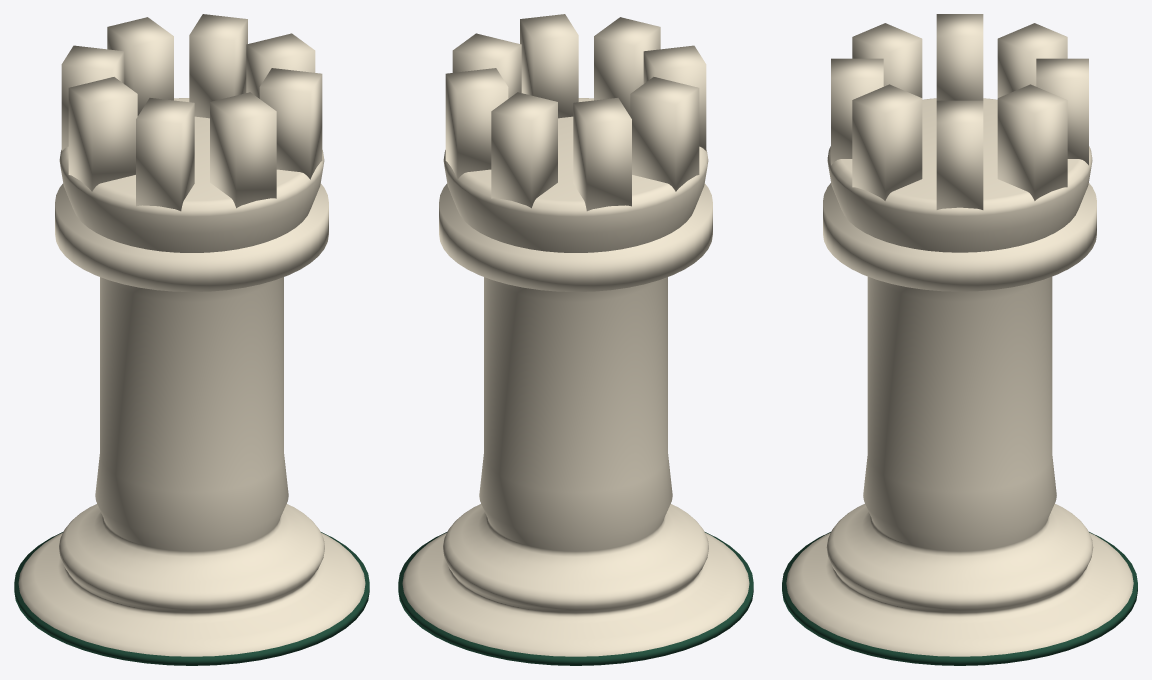
The model's file is chess-rook-white.glb.
3 views of the same model, side by side, from view 1: azimuth 30°, elevation 25°; view 2: azimuth 150°, elevation 25°; view 3: azimuth 270°, elevation 25° (orthographic).
Parts seen in each view (by area): view 1: ChessRook; view 2: ChessRook; view 3: ChessRook.
Part boxes in pixels (left/top/right/bottom): ChessRook: left=14, top=14, right=369, bottom=665; ChessRook: left=398, top=14, right=753, bottom=665; ChessRook: left=782, top=14, right=1137, bottom=665.
Size of the model in its own units: 0.6177 by 1 by 0.6177.
